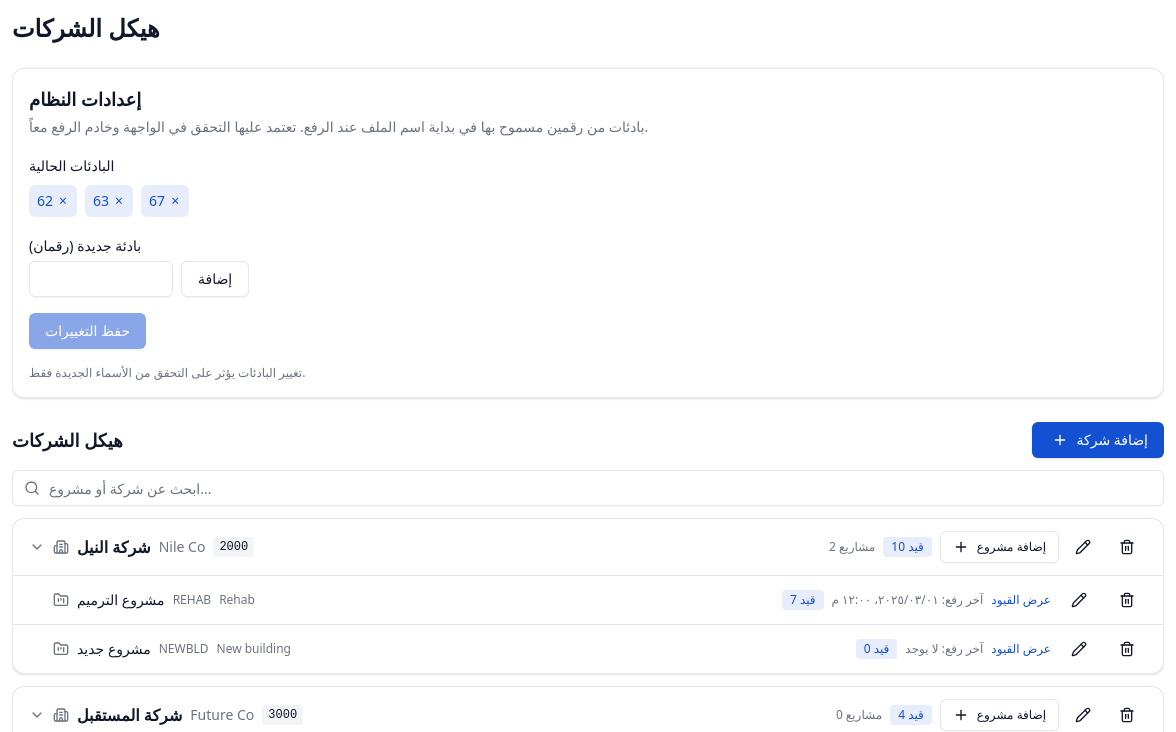
Test: AdminStructurePage › search narrows companies and projects
This screenshot has width=1176, height=732.
Expected: the text "شركة النيل" is shown, x1=77 y1=535 x2=151 y2=559
Type "مستقبل" into the field labelled "ابحث عن شركة أو مشروع..." at (588, 488), box x1=12 y1=470 x2=1164 y2=506
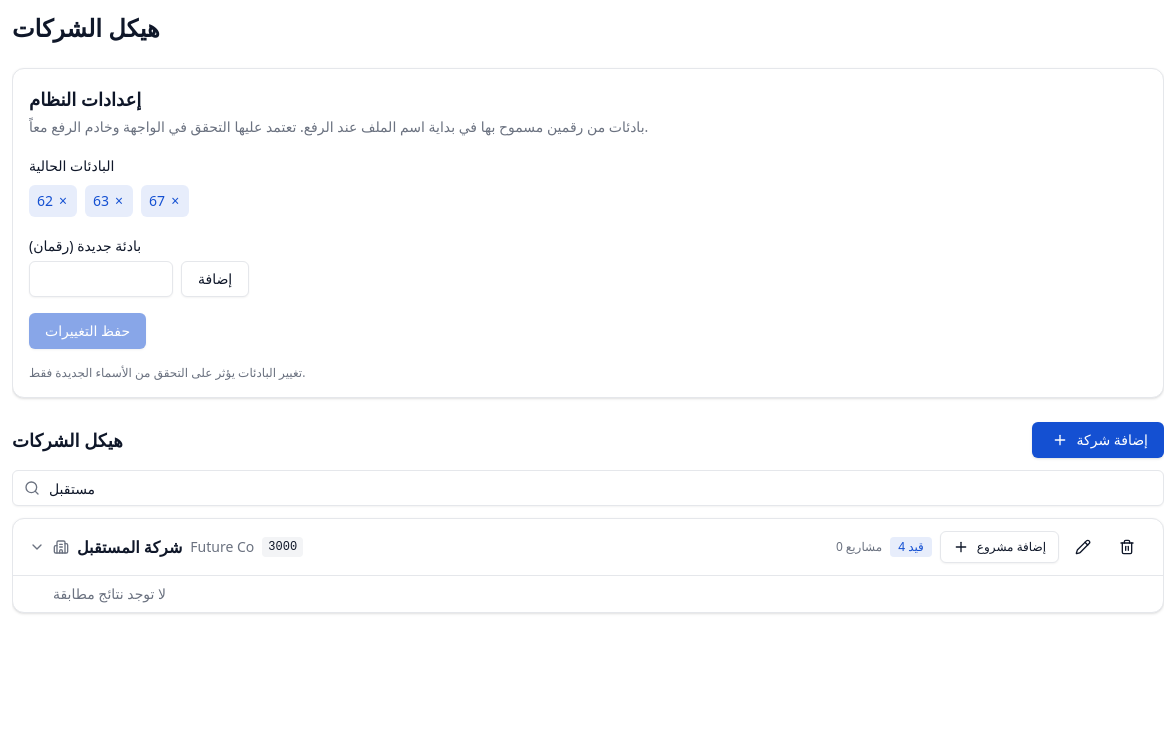
Expected: the text "شركة المستقبل" is shown, x1=77 y1=535 x2=182 y2=559
Result: the button "شركة النيل" is gone
Replace the text in the field named "ابحث عن شركة أو مشروع..." with "rehab" at (588, 488), box x1=12 y1=470 x2=1164 y2=506
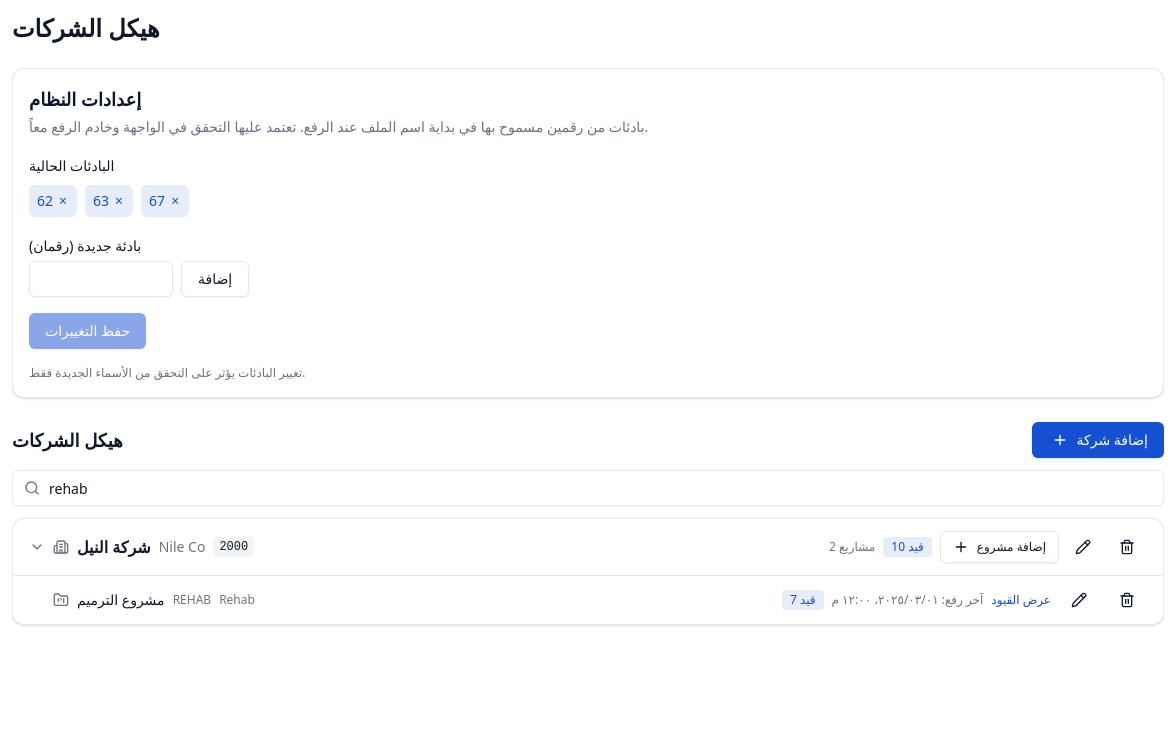
Result: the text "شركة النيل" is shown at x1=77 y1=535 x2=151 y2=559
Result: the button "شركة المستقبل" is gone
Replace the text in the field named "ابحث عن شركة أو مشروع..." with "zzz" at (588, 488), box x1=12 y1=470 x2=1164 y2=506
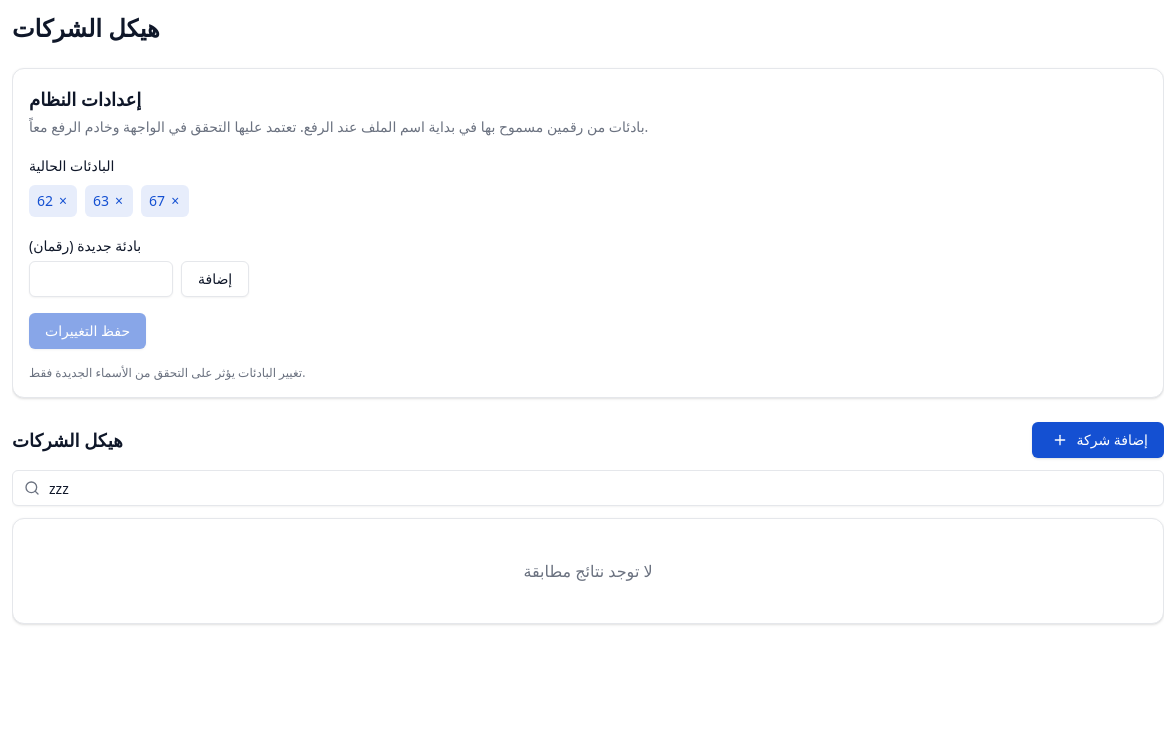
Result: the text "لا توجد نتائج مطابقة" is shown at x1=523 y1=560 x2=653 y2=582
Result: the button "شركة النيل" is gone
